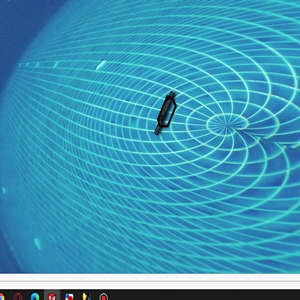submarine: (153, 93, 176, 129)
